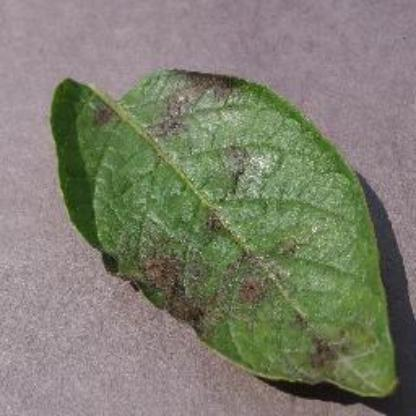Late-Blight: (43, 59, 407, 403)
